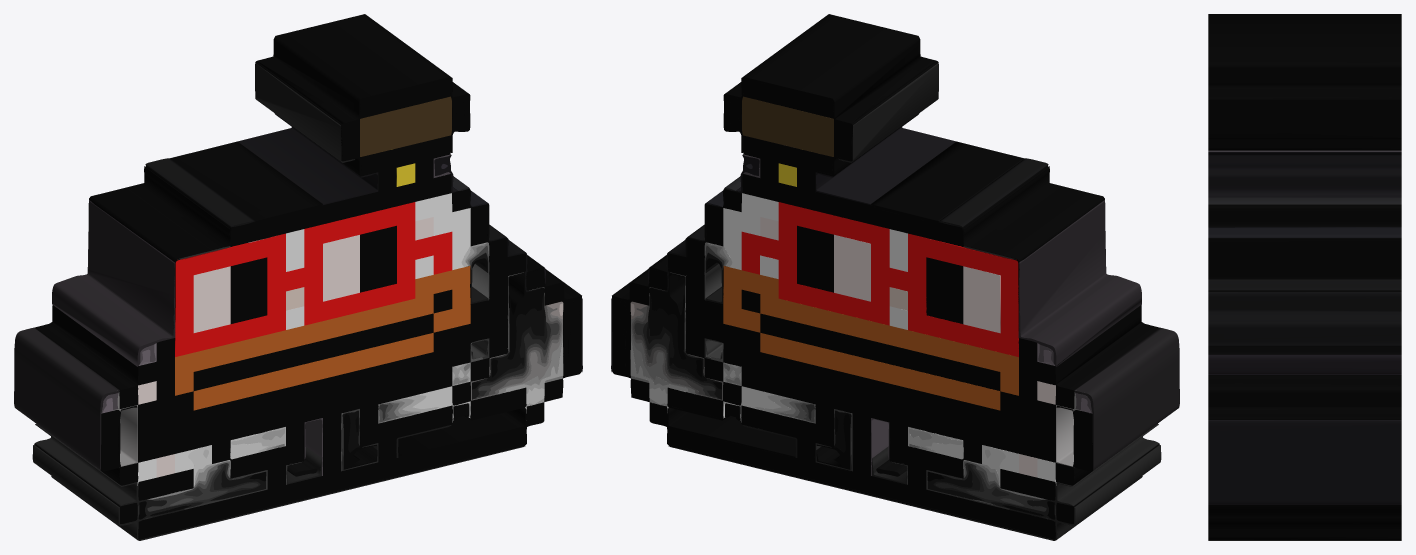
File: Toadz_5988.glb
3 views of the same model, side by side, from view 1: azimuth 30°, elevation 25°; view 2: azimuth 150°, elevation 25°; view 3: azimuth 270°, elevation 25° (orthographic). The views are drawn at different scales.
Visible parts, largest first — view 1: Curve; view 2: Curve; view 3: Curve.
Part boxes in pixels (<box>): Curve: <box>14,14,582,540</box>; Curve: <box>611,14,1179,540</box>; Curve: <box>1208,14,1401,540</box>.
Size of the model in its own units: 3.25 by 2.5 by 1.
